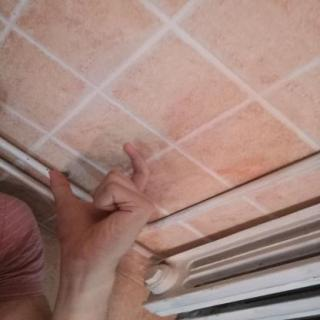NOON: (32, 134, 166, 271)
